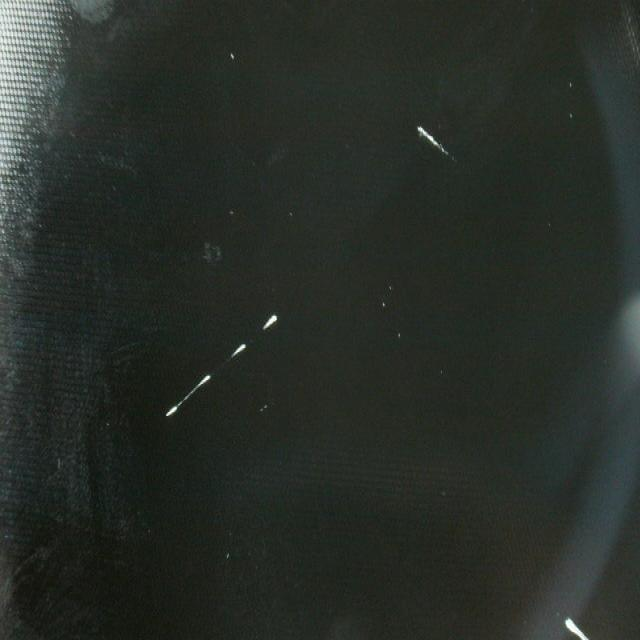scratch: (164, 308, 280, 424), (412, 117, 453, 163)
